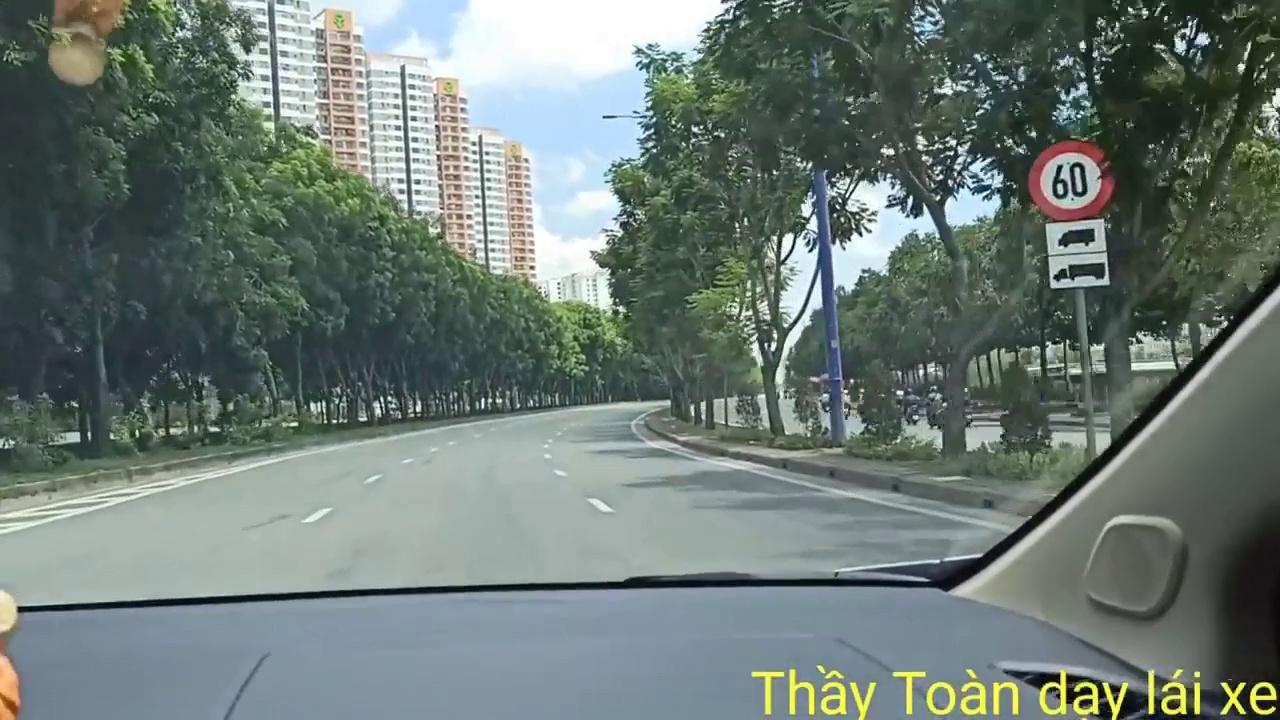Biển phụ: (1040, 220, 1114, 290)
GIơi hạn tốc độ 60Km/h: (1027, 132, 1118, 221)
